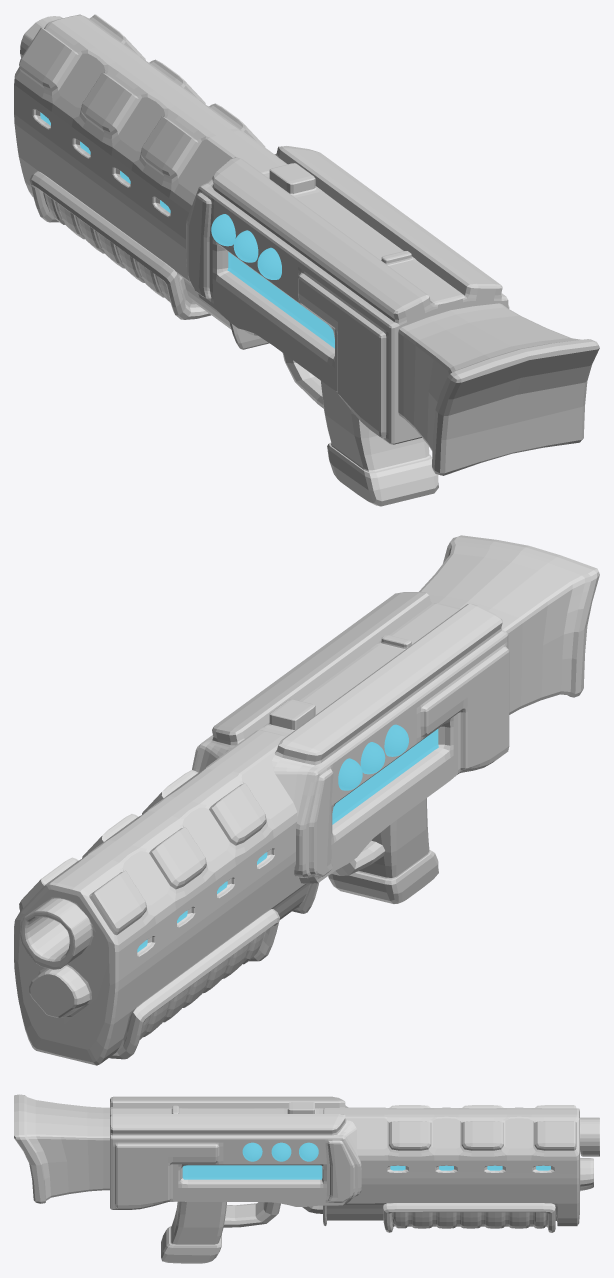
Rendered from alienweapon.glb.
3 views of the same model, one above another, from view 1: azimuth 30°, elevation 25°; view 2: azimuth 150°, elevation 25°; view 3: azimuth 270°, elevation 25° (orthographic). The views are drawn at different scales.
Parts seen in each view (by area): view 1: Cube.014, Cube.015, Cube.017; view 2: Cube.014, Cube.015, Cube.017; view 3: Cube.014, Cube.015, Cube.017.
Boxes of the visible parts, x1,y1,x2,y2 form: Cube.014: (186,146,599,506); Cube.015: (14,14,287,349); Cube.017: (29,171,210,319); Cube.014: (192,535,599,903); Cube.015: (14,730,318,1065); Cube.017: (109,909,279,1059); Cube.014: (14,1094,361,1263); Cube.015: (302,1105,599,1226); Cube.017: (383,1203,555,1232).
Size of the model in its own units: 3.47 by 5.55 by 19.68.
